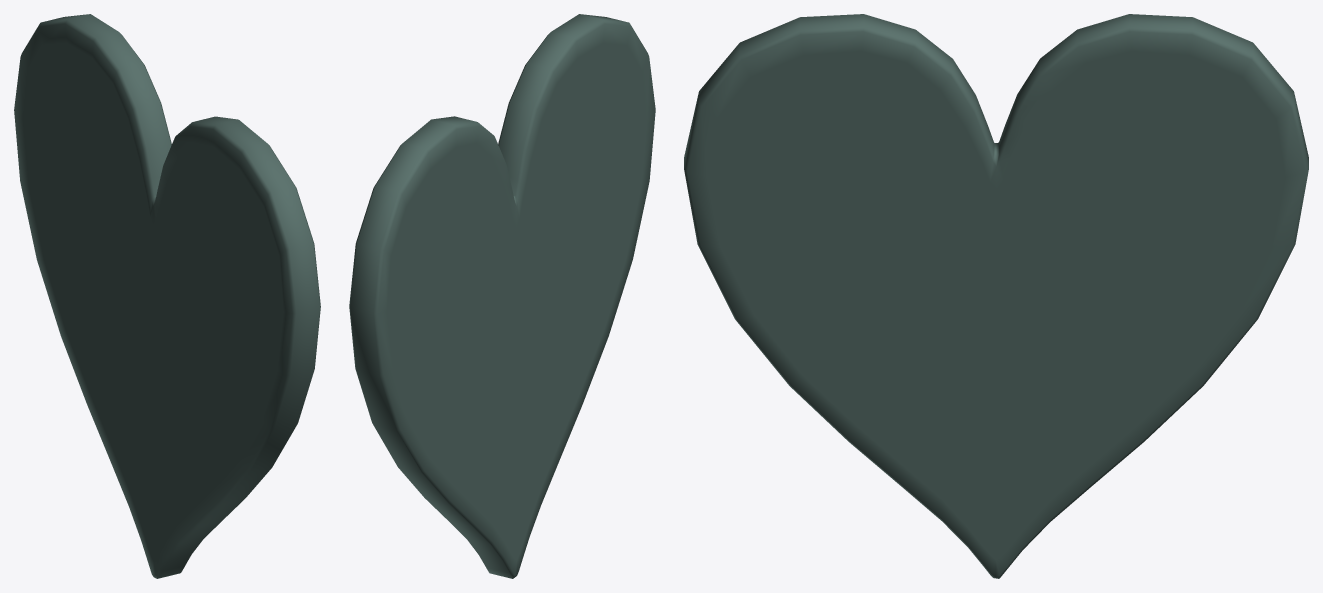
The model's file is spade.glb.
3 views of the same model, side by side, from view 1: azimuth 30°, elevation 25°; view 2: azimuth 150°, elevation 25°; view 3: azimuth 270°, elevation 25° (orthographic). The views are drawn at different scales.
Parts seen in each view (by area): view 1: Plane.002; view 2: Plane.002; view 3: Plane.002.
Part boxes in pixels (x1,y1,x2,y2): Plane.002: [14, 14, 320, 578]; Plane.002: [349, 14, 655, 578]; Plane.002: [684, 14, 1308, 578].
Size of the model in its own units: 0.33 by 5.48 by 5.62.
